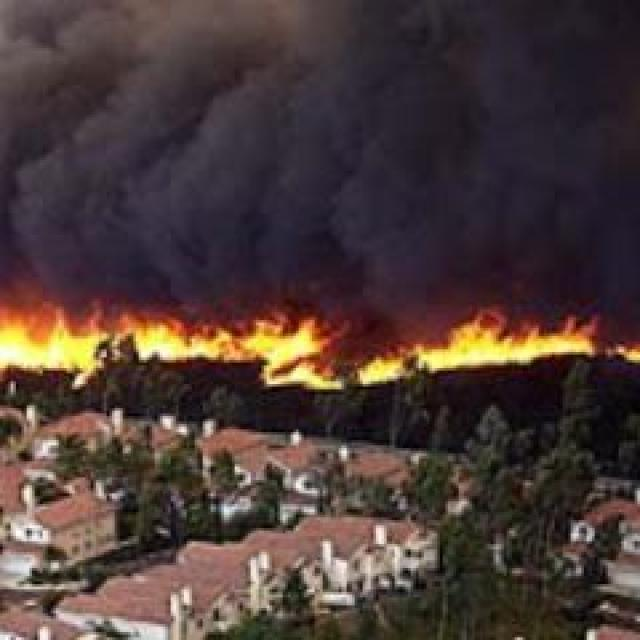Fire: (0, 292, 640, 384)
Smoke: (0, 2, 640, 308)
